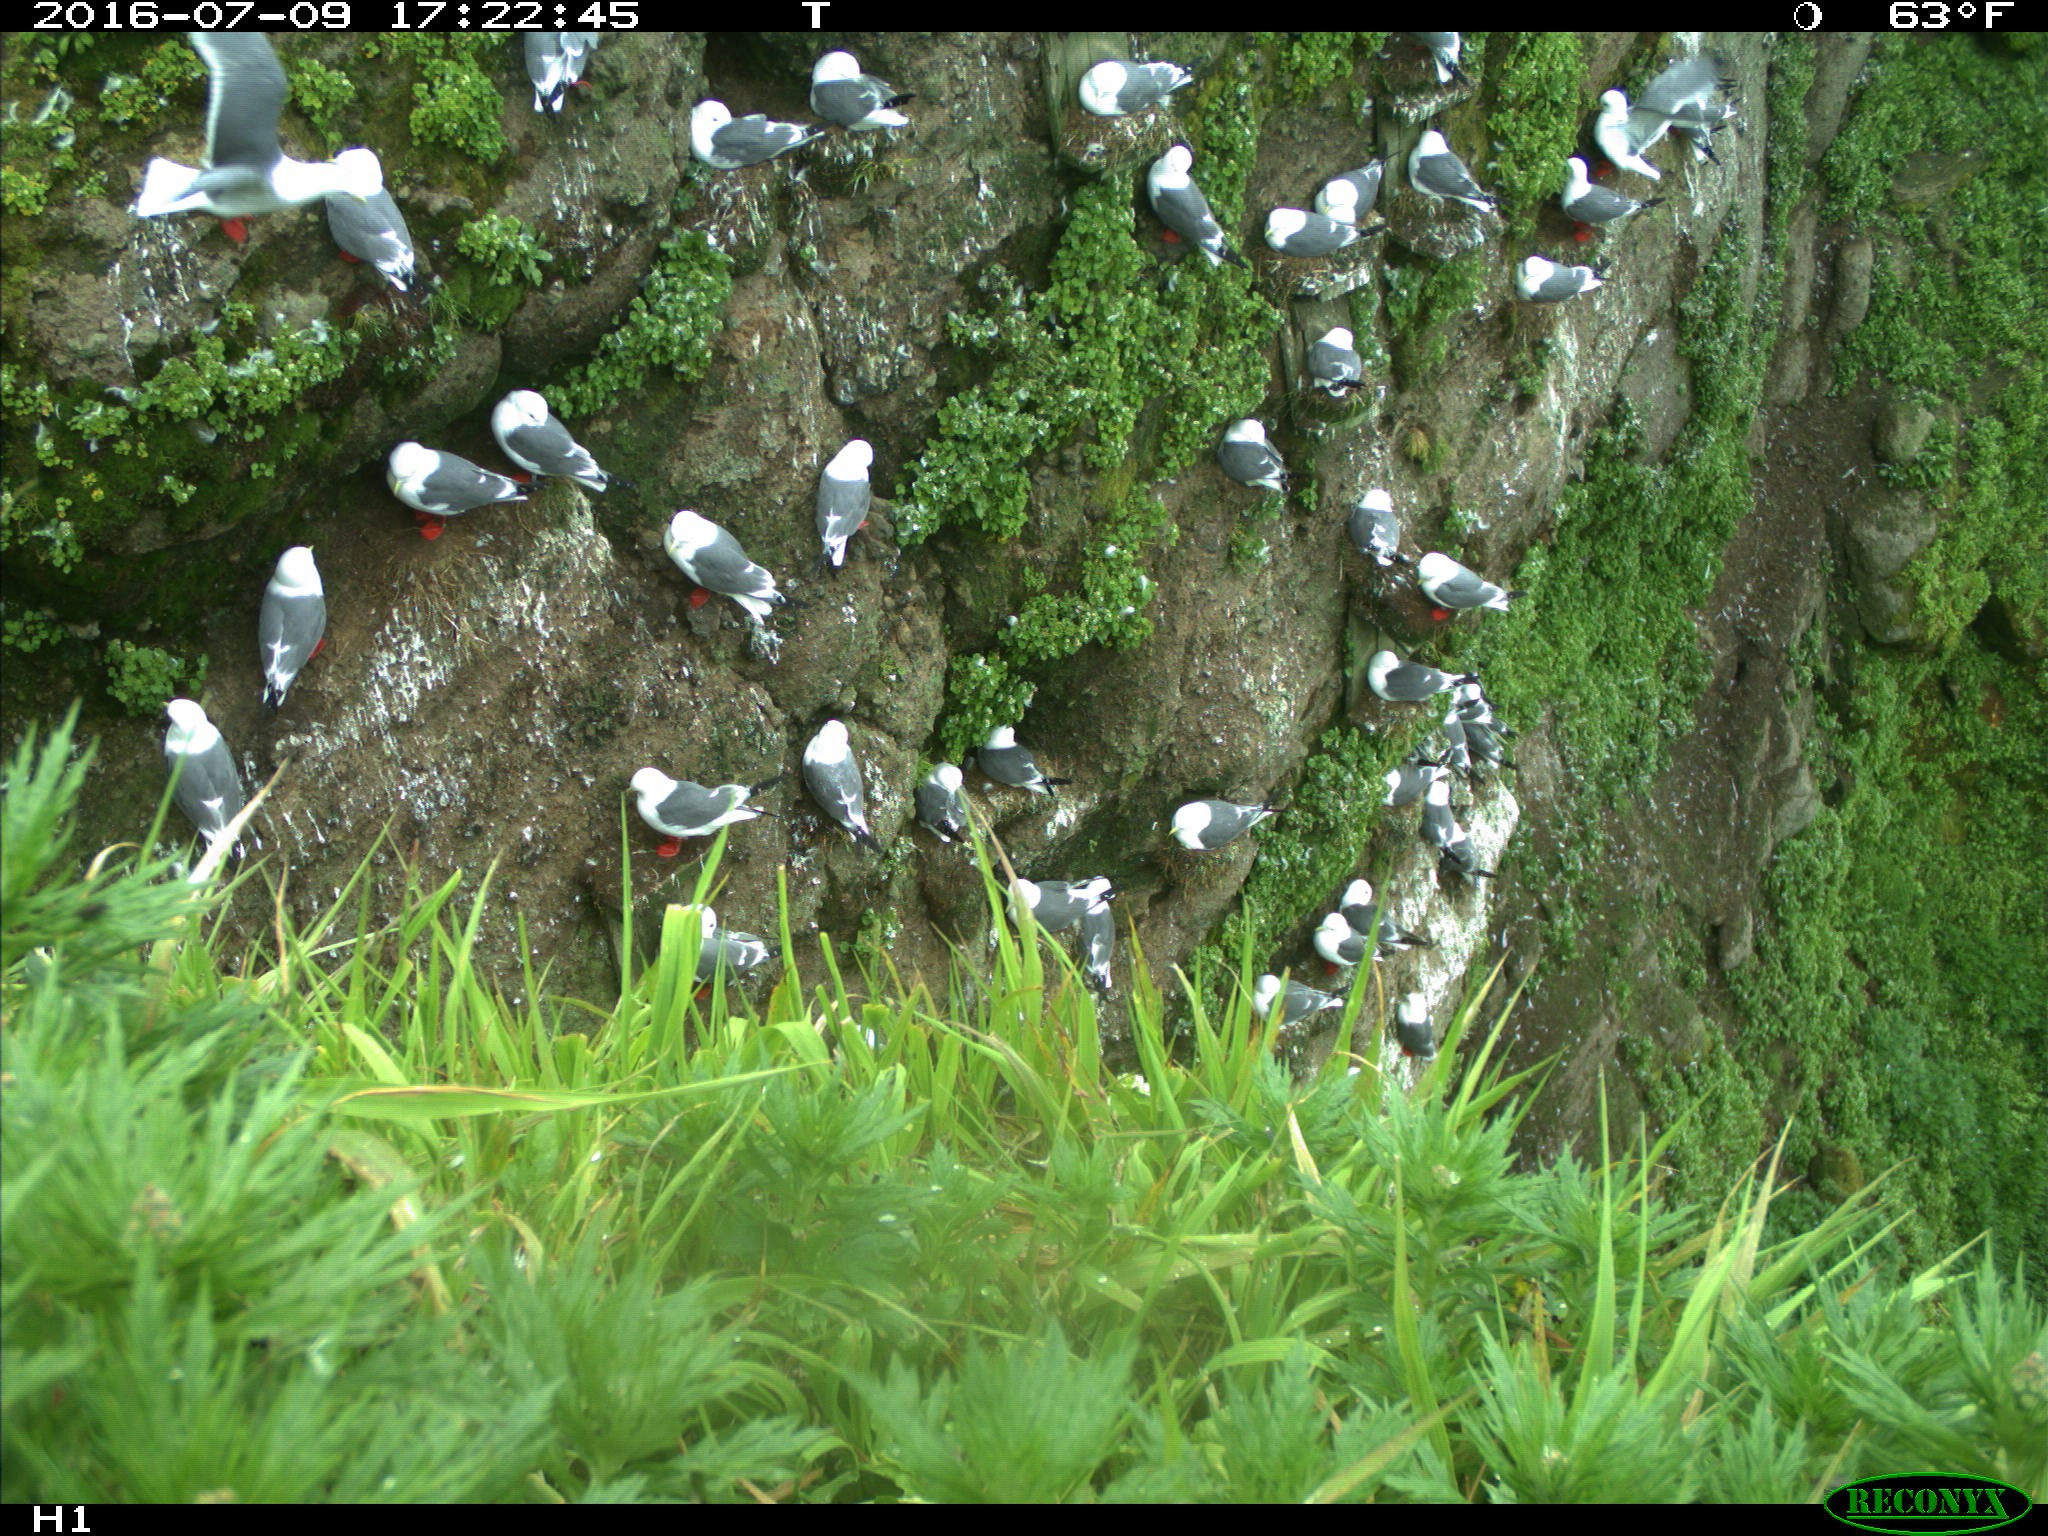Kittiwake: (126, 668, 268, 891), (224, 532, 376, 721), (363, 431, 561, 570), (298, 124, 453, 298), (656, 453, 771, 650), (595, 745, 764, 870), (785, 687, 924, 833), (822, 416, 955, 563), (1122, 132, 1250, 274), (484, 378, 618, 508), (1134, 779, 1305, 870), (671, 90, 824, 187), (1395, 111, 1517, 227), (1230, 950, 1367, 1054), (1542, 158, 1658, 271), (1409, 521, 1500, 665), (1256, 182, 1384, 281), (1643, 68, 1742, 179), (1292, 891, 1408, 984), (1300, 140, 1408, 240), (1061, 47, 1200, 123), (502, 24, 605, 124), (1321, 470, 1414, 579), (971, 708, 1072, 808), (1501, 229, 1625, 310), (1072, 842, 1151, 966), (813, 48, 906, 153), (1205, 413, 1300, 515), (1364, 642, 1493, 715), (1000, 858, 1092, 960), (1372, 984, 1471, 1068), (1567, 87, 1672, 161), (919, 745, 980, 871), (1316, 874, 1414, 950), (1297, 324, 1372, 419), (1401, 776, 1492, 849), (1459, 703, 1508, 776), (1430, 707, 1484, 771)
